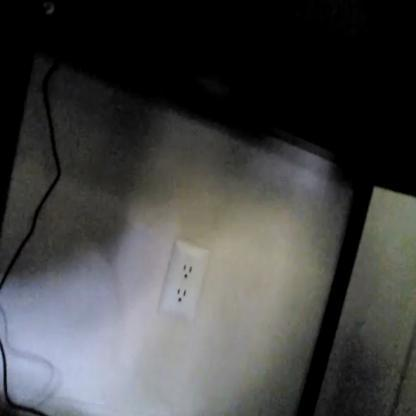OUTLET: (162, 239, 203, 316)
